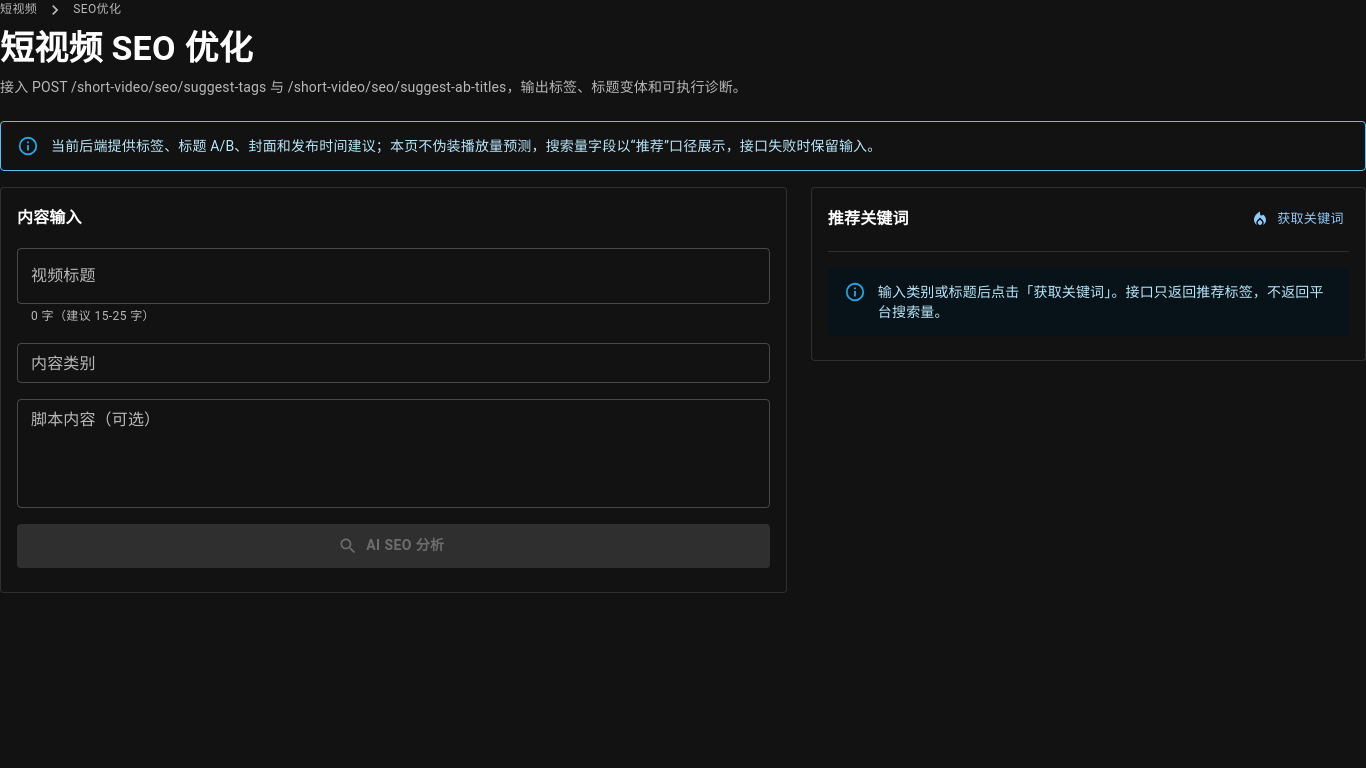
Scenario: SeoOptimizePage › uses a theme-aware optimized title surface in dark mode
This screenshot has width=1366, height=768.
Step 1. Type "敏感肌如何修护屏障" into the field labelled "视频标题" → coordinates (393, 276), box [17,248,770,304]
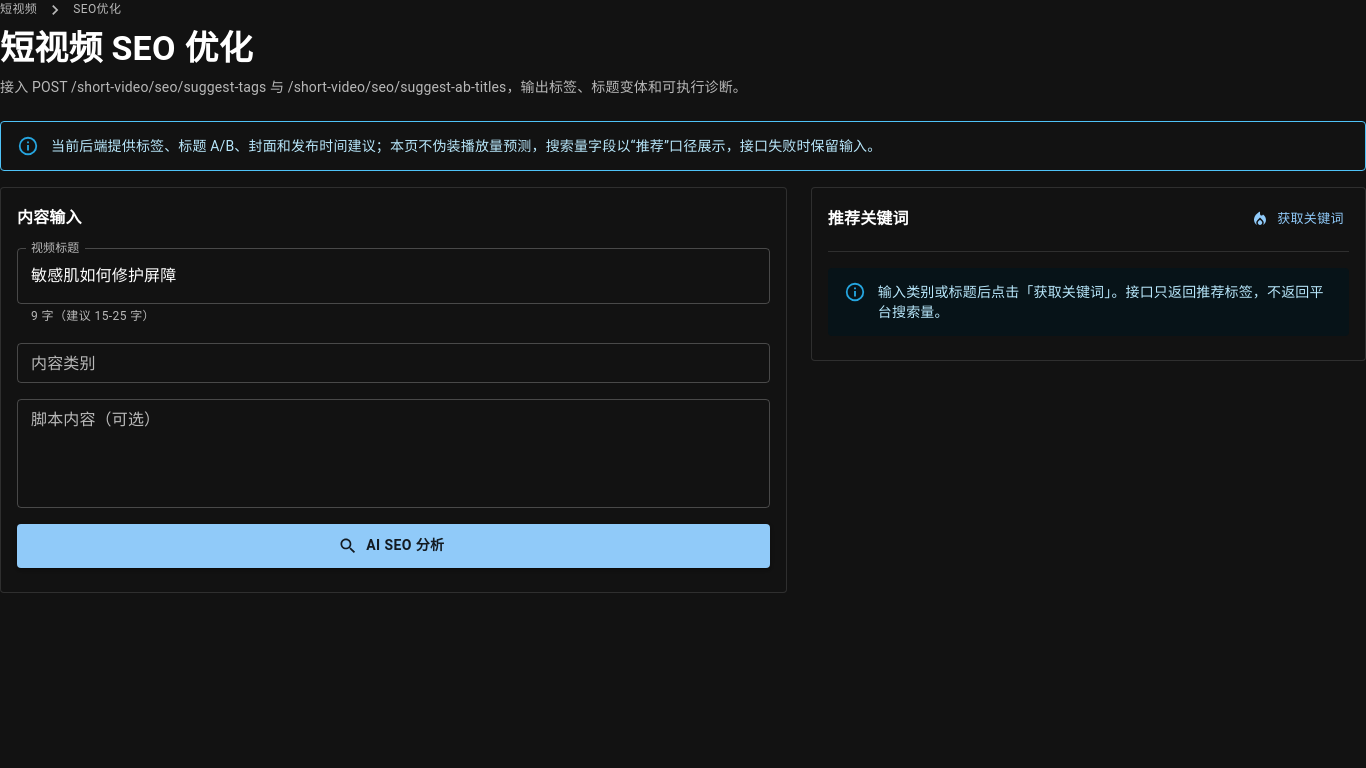
Step 2. Click the button "AI SEO 分析" → coordinates (393, 546), box [17,524,770,568]
(page scrolled)
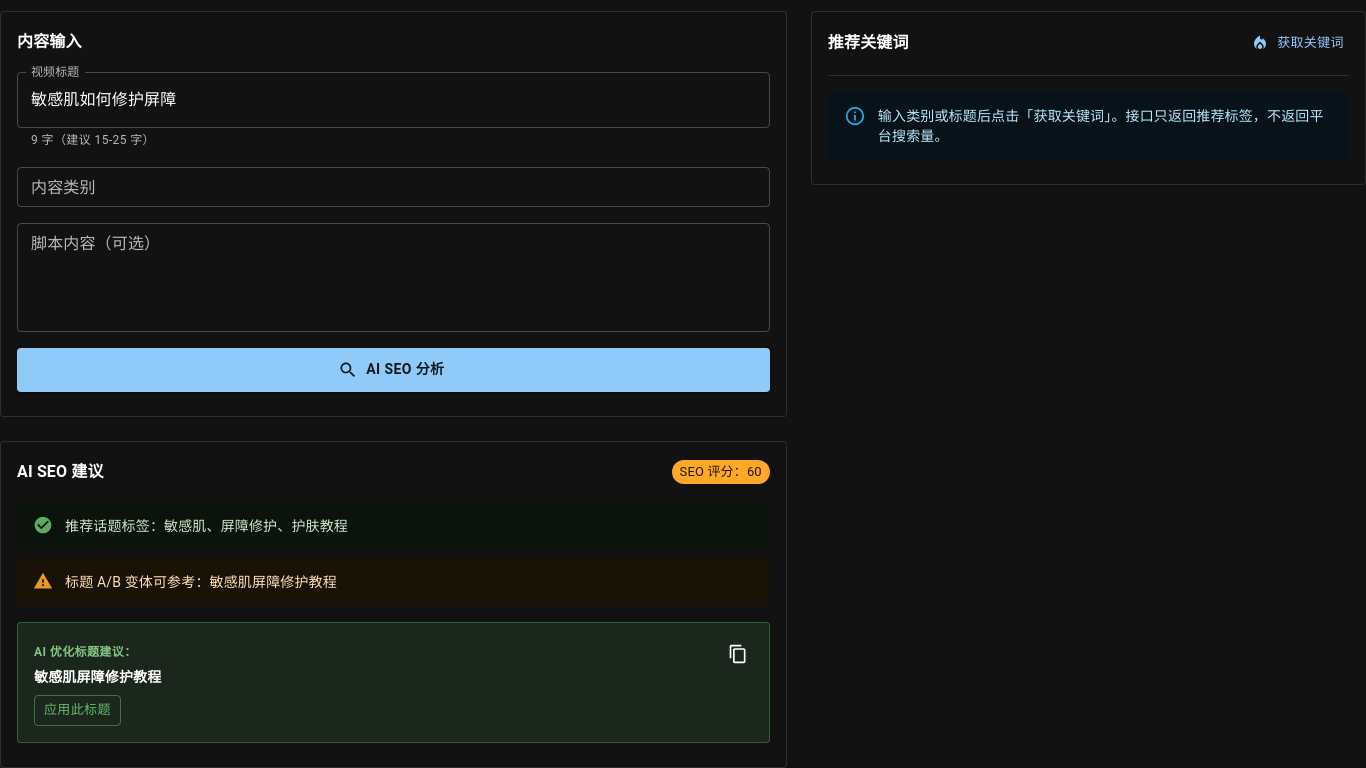
expect the text "敏感肌屏障修护教程" is shown: met, box [34,667,161,687]
